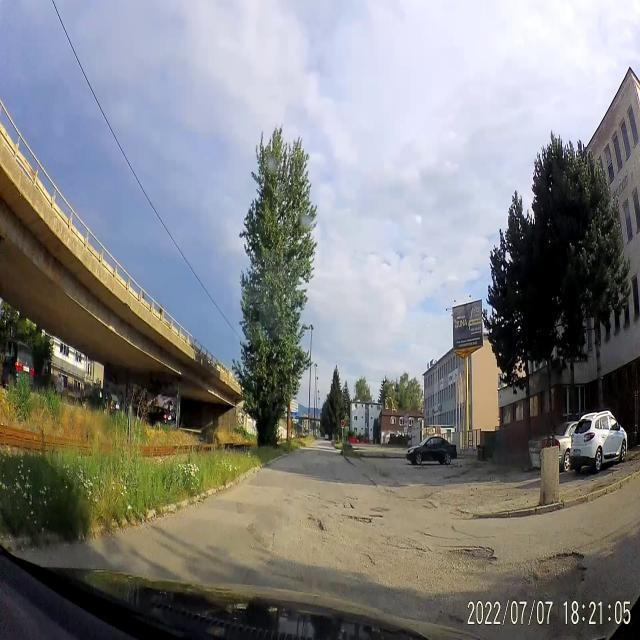Pothole: (522, 530, 586, 598), (452, 541, 501, 568), (344, 512, 377, 526), (308, 511, 324, 536)
